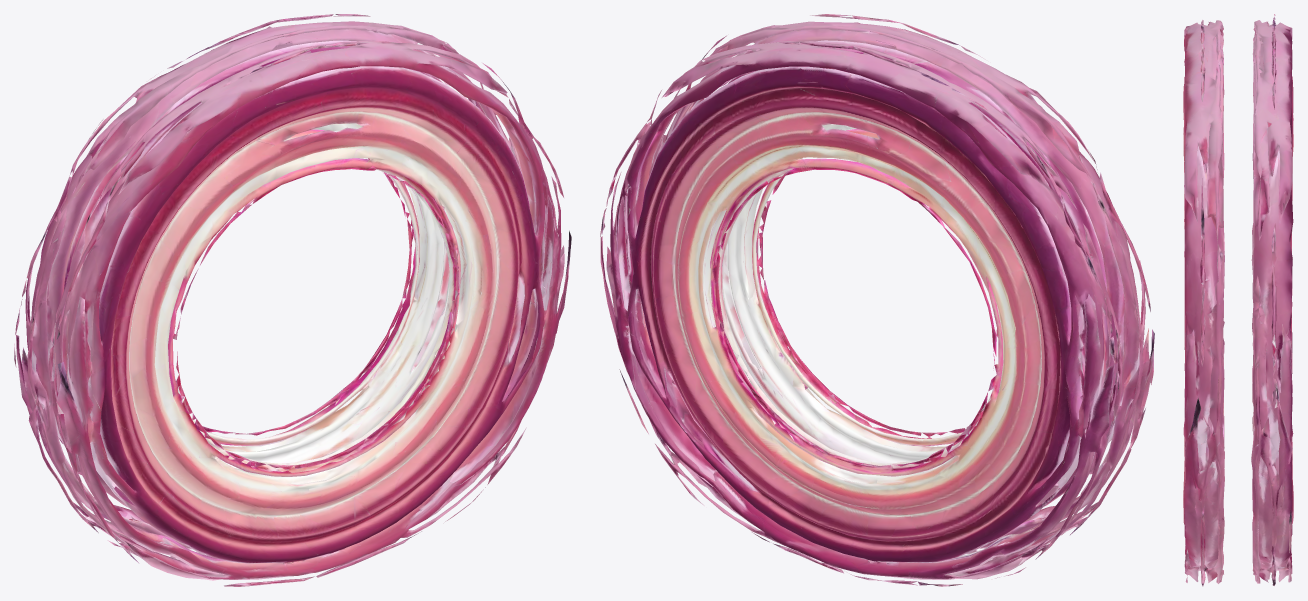
Rendered from blackhole.glb.
3 renders of one model, left to right at view 1: azimuth 30°, elevation 25°; view 2: azimuth 150°, elevation 25°; view 3: azimuth 270°, elevation 25°, orthographic. The views are drawn at different scales.
Bounding box in the file's own units: 1.9 × 1.86 × 0.3657.
Materials: 1 (1 with a texture image).
